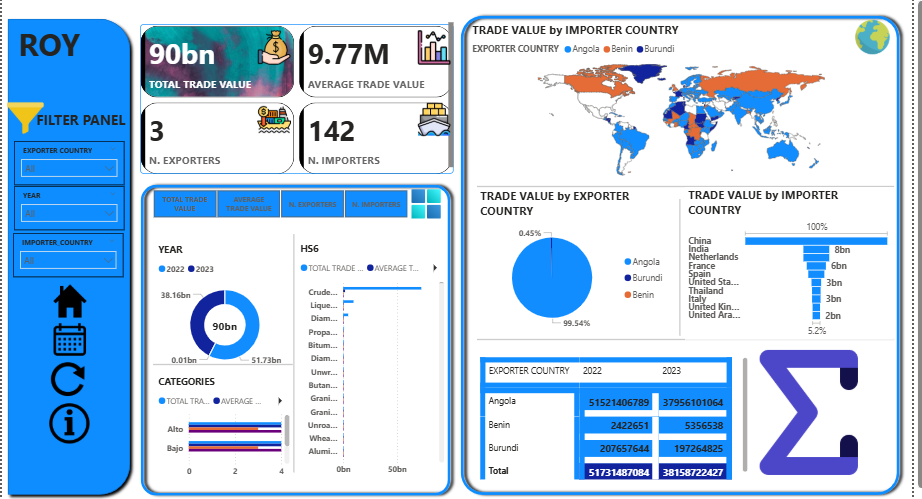

This screenshot's page, from the dashboard's own definition file:
{"tool":"powerbi","page":{"name":"Page 1","canvas":[1400,800],"ordinal":0},"visuals":[{"type":"pivotTable","fields":{"Values":["DIM_IMPORTER.IMPORTER_COUNTRY"],"Rows":["DIM_IMPORTER.IMPORTER_ID","MAIN_TABLE.PRODUCT_ID","DIM_PRODUCT.HS6"]},"box":[1605,615,330,530],"z":0},{"type":"slicer","fields":{"Values":["DIM_EXPORTER.EXPORTER_COUNTRY"]},"box":[450,1280,190,125],"z":1000},{"type":"shape","box":[0,36,206,750],"z":2000},{"type":"textbox","box":[20,44,170,74],"z":3000},{"type":"shape","box":[204,290,494,496],"z":4000},{"type":"shape","box":[697.5,30,692.5,755],"z":5000},{"type":"cardVisual","fields":{"Data":["Measures (2).Total_Trade_value","Measures (2).Average_Trade_value","Measures (2).Number_of_exporters","Measures (2).Number_of_importers"]},"box":[207.5,45,492.5,245],"z":6000},{"type":"slicer","fields":{"Values":["Parameter.Parameter"]},"box":[208.3,301.7,440,55],"z":7000},{"type":"image","box":[385,57.5,67.5,62.5],"z":8000},{"type":"image","box":[630,57.5,67.5,62.5],"z":9000},{"type":"image","box":[385,167.5,67.5,62.5],"z":10000},{"type":"image","box":[630,167.5,67.5,62.5],"z":11000},{"type":"donutChart","title":"YEAR","fields":{"Y":["Measures (2).Total_Trade_value","Measures (2).Average_Trade_value","Measures (2).Number_of_exporters","Measures (2).Number_of_importers"],"Category":["DIM_YEAR.YEAR"]},"box":[235,388.8,215,203.8],"z":12000},{"type":"shape","box":[232.5,426.2,215,300],"z":13000},{"type":"card","fields":{"Values":["Measures (2).Total_Trade_value"]},"box":[288.8,500,107.5,37.5],"z":14000},{"type":"clusteredBarChart","title":"CATEGORIES","fields":{"Y":["Measures (2).Total_Trade_value","Measures (2).Average_Trade_value","Measures (2).Number_of_exporters","Measures (2).Number_of_importers"],"Category":["MAIN_TABLE.Categoria TradeValue"]},"box":[235.6,592.2,212.2,165.6],"z":15000},{"type":"shape","box":[341.7,375,215,366.7],"z":16000},{"type":"clusteredBarChart","title":"HS6","fields":{"Y":["Measures (2).Total_Trade_value","Measures (2).Average_Trade_value","Measures (2).Number_of_exporters","Measures (2).Number_of_importers"],"Category":["DIM_PRODUCT.HS6"]},"box":[453.3,388.3,231.7,368.3],"z":17000},{"type":"shape","box":[730,151.7,641.7,300],"z":18000},{"type":"shapeMap","title":"TRADE VALUE by IMPORTER COUNTRY ","fields":{"Category":["DIM_IMPORTER.IMPORTER_COUNTRY"],"Series":["DIM_EXPORTER.EXPORTER_COUNTRY"],"Value":["Measures (2).Total_Trade_value"]},"box":[718.3,43.3,653.3,256.7],"z":19000},{"type":"image","box":[620,301.7,65,55],"z":20000},{"type":"image","box":[1308.3,36.7,63.3,71.7],"z":21000},{"type":"shape","box":[730,388.3,641.7,300],"z":22000},{"type":"shape","box":[935,321.7,215,210],"z":23000},{"type":"image","box":[0,163.3,71.7,68.3],"z":24000},{"type":"textbox","box":[48.3,180,160,51.7],"z":25000},{"type":"slicer","fields":{"Values":["DIM_EXPORTER.EXPORTER_COUNTRY"]},"box":[18,232,170,68],"z":26000},{"type":"slicer","fields":{"Values":["DIM_YEAR.YEAR"]},"box":[18,302,170,68],"z":27000},{"type":"slicer","fields":{"Values":["DIM_IMPORTER.IMPORTER_COUNTRY"]},"box":[17.5,373.8,170,67.5],"z":28000},{"type":"funnel","fields":{"Category":["DIM_IMPORTER.IMPORTER_COUNTRY"],"Y":["Measures (2).Total_Trade_value"]},"box":[1050,302.5,321.2,235],"z":29000},{"type":"pieChart","fields":{"Category":["DIM_EXPORTER.EXPORTER_COUNTRY"],"Y":["Measures (2).Total_Trade_value"]},"box":[730,304,300,230],"z":30000},{"type":"pivotTable","fields":{"Rows":["DIM_EXPORTER.EXPORTER_COUNTRY"],"Columns":["DIM_YEAR.YEAR"],"Values":["Measures (2).Total_Trade_value"]},"box":[730,560,422,198],"z":31000},{"type":"image","box":[1126,534,230,232],"z":32000},{"type":"image","box":[64,438,80,80],"z":33000},{"type":"image","box":[72,508,64,60],"z":34000},{"type":"image","box":[66,568,70,62],"z":35000},{"type":"image","box":[68,630,72,72],"z":36000}]}

Visuals, with their boxes in screenshot pixels (x1, y1, x2, y2):
shape: x1=0 y1=13 x2=131 y2=492
textbox: x1=13 y1=18 x2=121 y2=66
shape: x1=130 y1=175 x2=446 y2=492
shape: x1=445 y1=10 x2=887 y2=491
cardVisual - Measures (2).Total_Trade_value x Measures (2).Average_Trade_value: x1=132 y1=19 x2=447 y2=175
slicer - Parameter.Parameter: x1=133 y1=183 x2=414 y2=218
image: x1=246 y1=27 x2=289 y2=67
image: x1=402 y1=27 x2=445 y2=67
image: x1=246 y1=97 x2=289 y2=137
image: x1=402 y1=97 x2=445 y2=137
"YEAR" donutChart: x1=150 y1=239 x2=287 y2=369
shape: x1=148 y1=262 x2=286 y2=454
card - Measures (2).Total_Trade_value: x1=184 y1=310 x2=253 y2=333
"CATEGORIES" clusteredBarChart: x1=150 y1=368 x2=286 y2=474
shape: x1=218 y1=230 x2=355 y2=464
"HS6" clusteredBarChart: x1=289 y1=238 x2=437 y2=473
shape: x1=466 y1=87 x2=876 y2=279
"TRADE VALUE by IMPORTER COUNTRY " shapeMap: x1=458 y1=18 x2=875 y2=182
image: x1=396 y1=183 x2=437 y2=218
image: x1=835 y1=14 x2=875 y2=60
shape: x1=466 y1=238 x2=876 y2=430
shape: x1=597 y1=196 x2=734 y2=330
image: x1=0 y1=95 x2=46 y2=138
textbox: x1=31 y1=105 x2=133 y2=138
slicer - DIM_EXPORTER.EXPORTER_COUNTRY: x1=11 y1=138 x2=120 y2=182
slicer - DIM_YEAR.YEAR: x1=11 y1=183 x2=120 y2=227
slicer - DIM_IMPORTER.IMPORTER_COUNTRY: x1=11 y1=229 x2=120 y2=272
funnel - DIM_IMPORTER.IMPORTER_COUNTRY x Measures (2).Total_Trade_value: x1=670 y1=183 x2=875 y2=333
pieChart - DIM_EXPORTER.EXPORTER_COUNTRY x Measures (2).Total_Trade_value: x1=466 y1=184 x2=657 y2=331
pivotTable - DIM_EXPORTER.EXPORTER_COUNTRY x DIM_YEAR.YEAR: x1=466 y1=348 x2=735 y2=474
image: x1=719 y1=331 x2=865 y2=479
image: x1=41 y1=270 x2=92 y2=321
image: x1=46 y1=315 x2=87 y2=353
image: x1=42 y1=353 x2=87 y2=393
image: x1=43 y1=393 x2=89 y2=438
